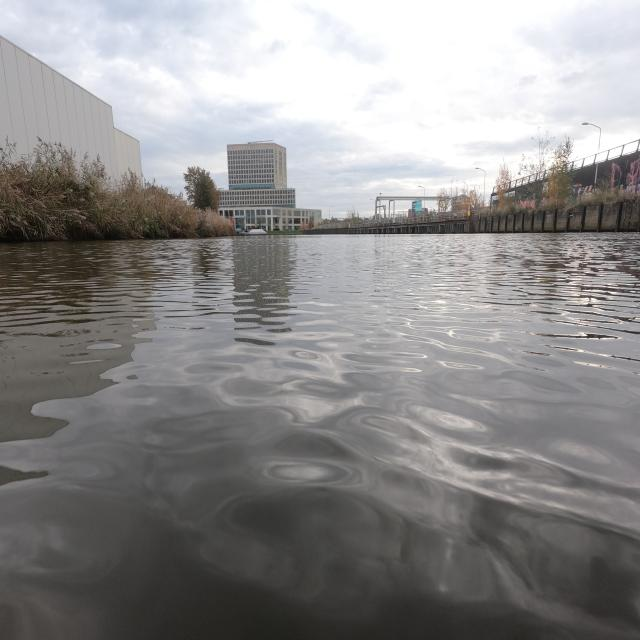reed: (0, 158, 238, 238)
sky: (0, 2, 638, 210)
wall: (464, 200, 636, 230)
water: (0, 233, 640, 640)
